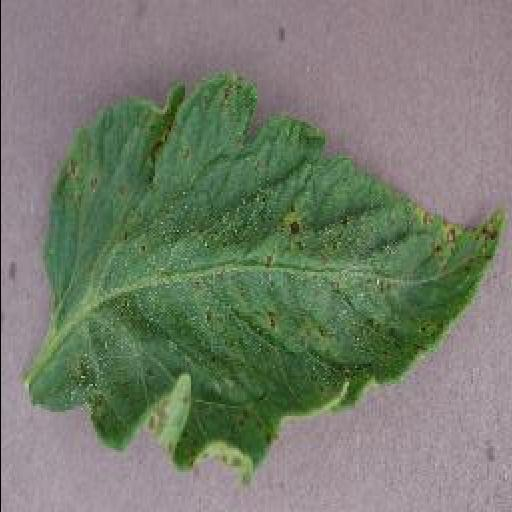disease_tomato: (24, 76, 504, 478)
